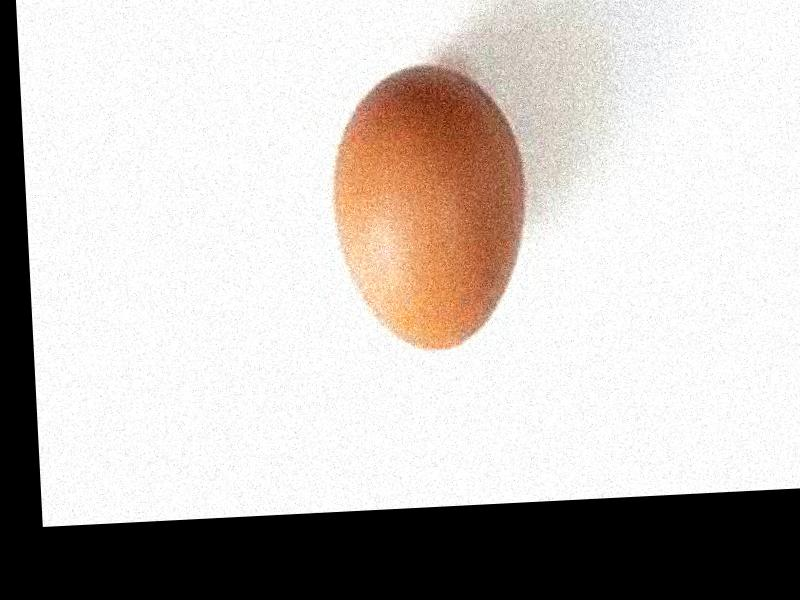Eggs: (330, 62, 531, 356)
